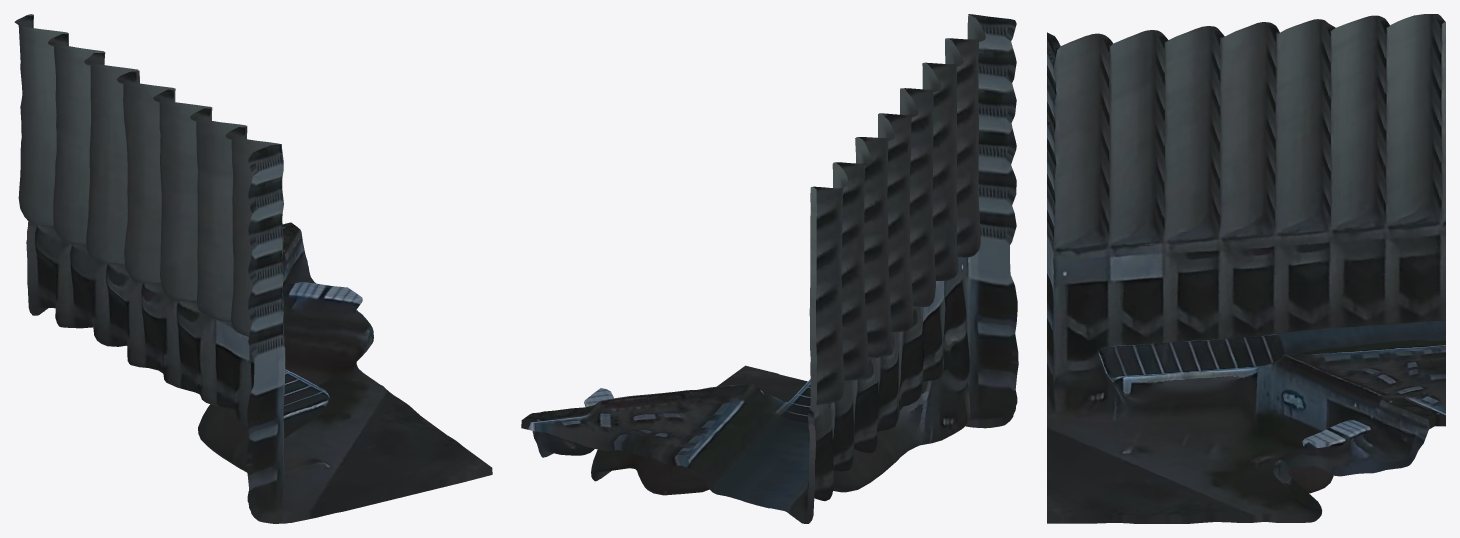
File: z20-167785-405223-h0-yup-uvflip-v3-world.glb
3 renders of one model, left to right at view 1: azimuth 30°, elevation 25°; view 2: azimuth 150°, elevation 25°; view 3: azimuth 270°, elevation 25°, orthographic. The views are drawn at different scales.
Bounding box in the file's own units: 24.48 × 31.4 × 30.32.
Materials: 1 (1 with a texture image).
